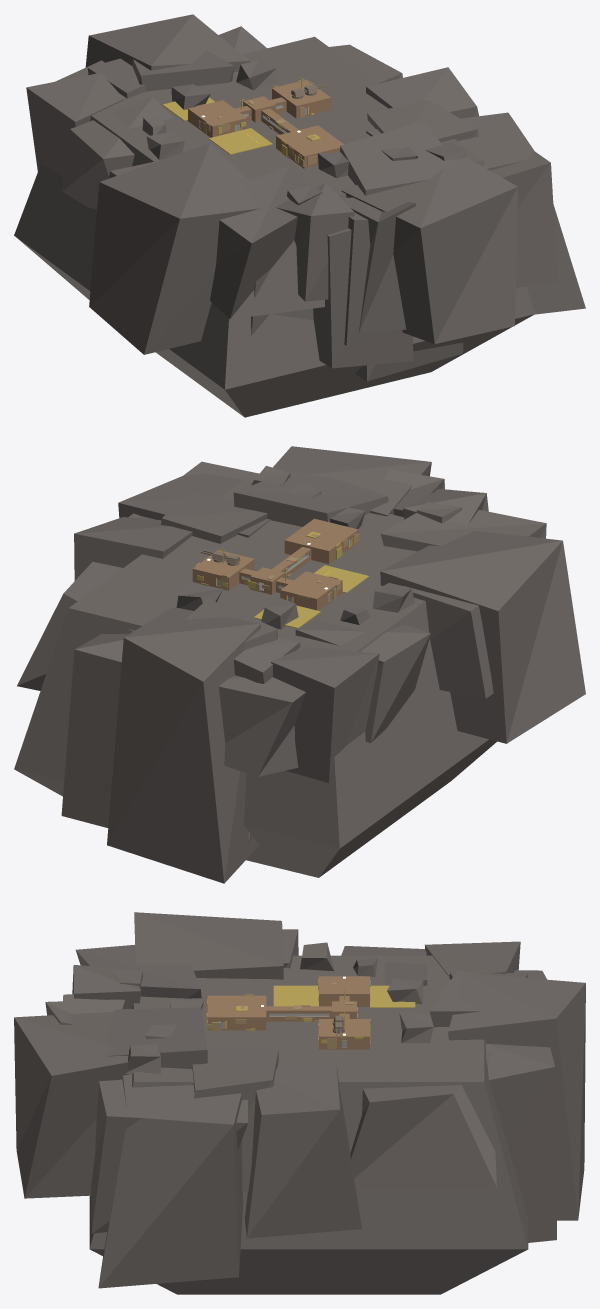
The model's file is GROUND_FORT.glb.
3 renders of one model, top to bottom at view 1: azimuth 30°, elevation 25°; view 2: azimuth 150°, elevation 25°; view 3: azimuth 270°, elevation 25°, orthographic. The views are drawn at different scales.
Visible parts, largest first — view 1: GROUND_FORT_AsteroidCrust, GROUND_FORT_Asteroid-col, GROUND_FORT_M01GCR_Hull-col, GROUND_FORT_M03PAD_Hull-col, GROUND_FORT_M03PAD_Trim, GROUND_FORT_M02GBT_Hull-col, GROUND_FORT_ScrapPlates; view 2: GROUND_FORT_AsteroidCrust, GROUND_FORT_Asteroid-col, GROUND_FORT_M01GCR_Hull-col, GROUND_FORT_M03PAD_Hull-col, GROUND_FORT_M02GBT_Hull-col, GROUND_FORT_M03PAD_Trim, GROUND_FORT_ScrapPlates; view 3: GROUND_FORT_AsteroidCrust, GROUND_FORT_Asteroid-col, GROUND_FORT_M01GCR_Hull-col, GROUND_FORT_M03PAD_Trim, GROUND_FORT_M03PAD_Hull-col, GROUND_FORT_M02GBT_Hull-col, GROUND_FORT_T01_Hull-col, GROUND_FORT_ScrapPlates.
Boxes of the visible parts, bbox=[...] form: GROUND_FORT_AsteroidCrust: bbox=[26, 14, 585, 381]; GROUND_FORT_Asteroid-col: bbox=[14, 36, 535, 417]; GROUND_FORT_M01GCR_Hull-col: bbox=[276, 125, 343, 168]; GROUND_FORT_M03PAD_Hull-col: bbox=[188, 100, 247, 137]; GROUND_FORT_M03PAD_Trim: bbox=[162, 97, 272, 154]; GROUND_FORT_M02GBT_Hull-col: bbox=[272, 79, 330, 118]; GROUND_FORT_ScrapPlates: bbox=[195, 85, 320, 166]; GROUND_FORT_AsteroidCrust: bbox=[17, 446, 585, 883]; GROUND_FORT_Asteroid-col: bbox=[14, 478, 496, 877]; GROUND_FORT_M01GCR_Hull-col: bbox=[284, 518, 358, 564]; GROUND_FORT_M03PAD_Hull-col: bbox=[280, 571, 342, 610]; GROUND_FORT_M02GBT_Hull-col: bbox=[192, 550, 254, 590]; GROUND_FORT_M03PAD_Trim: bbox=[253, 565, 369, 628]; GROUND_FORT_ScrapPlates: bbox=[201, 533, 359, 599]; GROUND_FORT_AsteroidCrust: bbox=[14, 912, 585, 1288]; GROUND_FORT_Asteroid-col: bbox=[89, 955, 528, 1294]; GROUND_FORT_M01GCR_Hull-col: bbox=[207, 995, 266, 1030]; GROUND_FORT_M03PAD_Trim: bbox=[273, 985, 415, 1007]; GROUND_FORT_M03PAD_Hull-col: bbox=[319, 976, 369, 1006]; GROUND_FORT_M02GBT_Hull-col: bbox=[319, 1019, 369, 1049]; GROUND_FORT_T01_Hull-col: bbox=[266, 1006, 331, 1021]; GROUND_FORT_ScrapPlates: bbox=[207, 978, 370, 1048].
Bounding box in the file's own units: 177 × 101 × 202.
